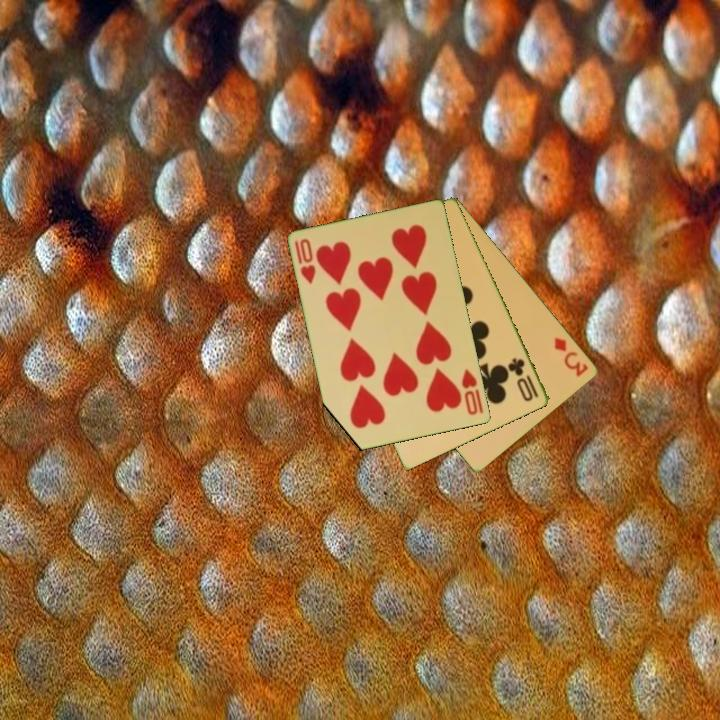10c: (505, 354, 542, 405)
10h: (458, 366, 486, 418), (291, 235, 319, 287)
3d: (551, 334, 592, 380)
